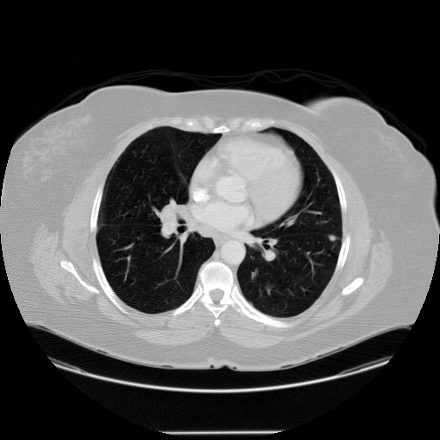nodule: (328, 234, 336, 242)
